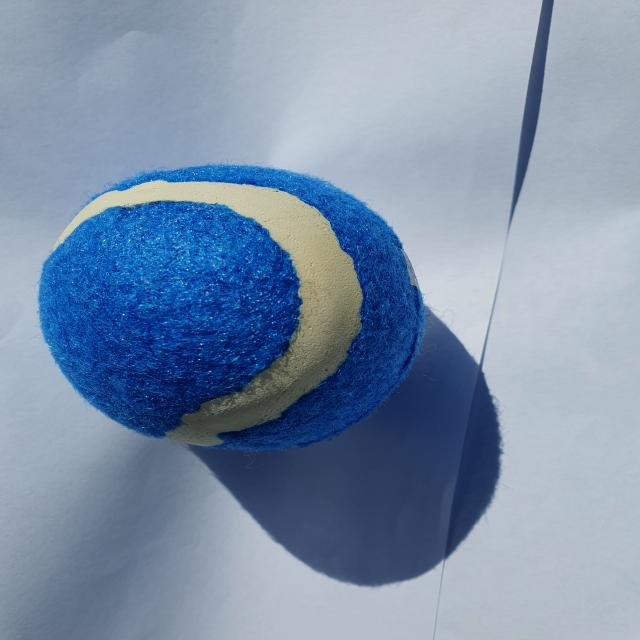blue: (39, 164, 424, 455)
